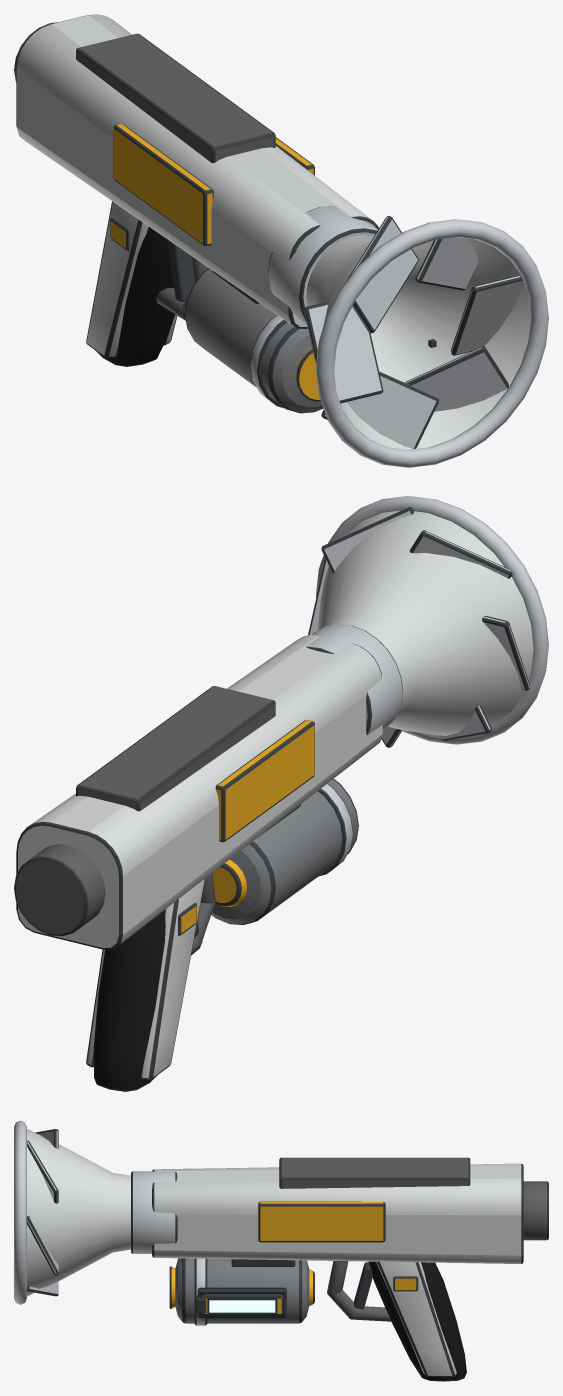
File: foam_gun.fbx
3 renders of one model, top to bottom at view 1: azimuth 30°, elevation 25°; view 2: azimuth 150°, elevation 25°; view 3: azimuth 270°, elevation 25°, orthographic. The views are drawn at different scales.
Parts seen in each view (by area): view 1: Mesh_FoamGun_Body, Mesh_FoamGun_Bell, Mesh_FoamGun_Iris, Mesh_FoamGun_Grip, Mesh_FoamGun_Cartridge, Mesh_FoamGun_Collar, Mesh_FoamGun_Saddle; view 2: Mesh_FoamGun_Body, Mesh_FoamGun_Bell, Mesh_FoamGun_Grip, Mesh_FoamGun_Cartridge, Mesh_FoamGun_Breech, Mesh_FoamGun_Iris, Mesh_FoamGun_Collar, Mesh_FoamGun_Saddle; view 3: Mesh_FoamGun_Body, Mesh_FoamGun_Bell, Mesh_FoamGun_Grip, Mesh_FoamGun_Cartridge, Mesh_FoamGun_Collar, Mesh_FoamGun_Gauge, Mesh_FoamGun_Breech, Mesh_FoamGun_Iris, Mesh_FoamGun_Saddle.
Part boxes in pixels (box(x1,y1,x2,y2)): Mesh_FoamGun_Body: box(16, 14, 378, 328); Mesh_FoamGun_Bell: box(306, 219, 548, 467); Mesh_FoamGun_Iris: box(304, 216, 522, 448); Mesh_FoamGun_Grip: box(86, 201, 208, 366); Mesh_FoamGun_Cartridge: box(185, 268, 323, 413); Mesh_FoamGun_Collar: box(268, 205, 377, 325); Mesh_FoamGun_Saddle: box(212, 270, 287, 408); Mesh_FoamGun_Body: box(16, 634, 382, 949); Mesh_FoamGun_Bell: box(316, 496, 548, 744); Mesh_FoamGun_Grip: box(86, 873, 215, 1091); Mesh_FoamGun_Cartridge: box(211, 779, 358, 924); Mesh_FoamGun_Breech: box(14, 844, 105, 936); Mesh_FoamGun_Iris: box(308, 507, 529, 747); Mesh_FoamGun_Collar: box(306, 624, 403, 734); Mesh_FoamGun_Saddle: box(260, 783, 352, 876); Mesh_FoamGun_Body: box(152, 1157, 523, 1263); Mesh_FoamGun_Bell: box(14, 1120, 130, 1304); Mesh_FoamGun_Grip: box(327, 1261, 466, 1381); Mesh_FoamGun_Cartridge: box(169, 1258, 314, 1323); Mesh_FoamGun_Collar: box(131, 1171, 177, 1253); Mesh_FoamGun_Gauge: box(197, 1287, 286, 1318); Mesh_FoamGun_Breech: box(523, 1181, 548, 1240); Mesh_FoamGun_Iris: box(26, 1129, 58, 1296); Mesh_FoamGun_Saddle: box(194, 1258, 295, 1325).
Bounding box in the file's own units: 17.38 × 25.49 × 50.42.
